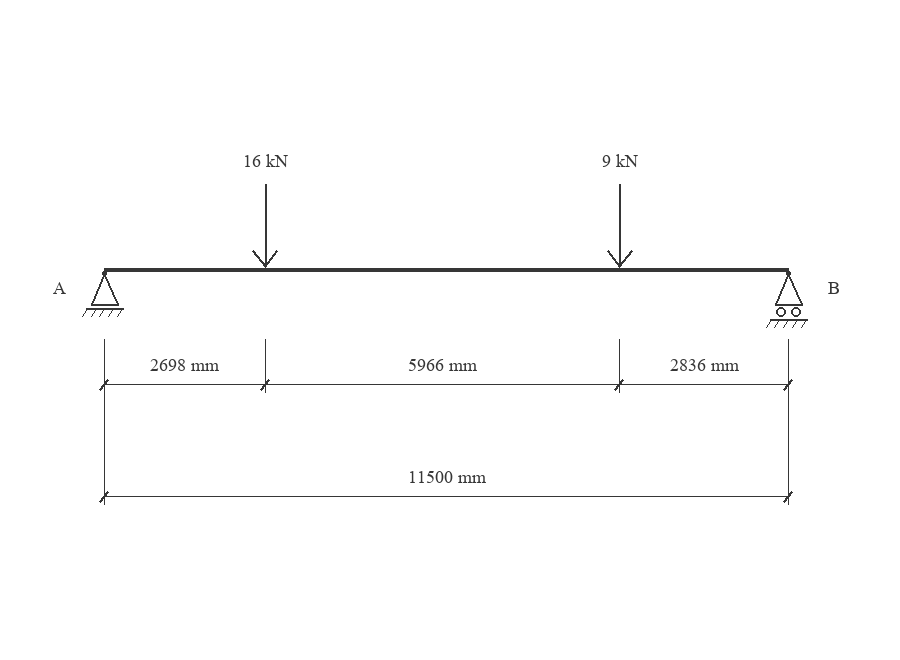pin_support: (82, 271, 124, 317)
point_load: (252, 184, 278, 268), (607, 184, 633, 268)
roller_support: (766, 271, 808, 328)
